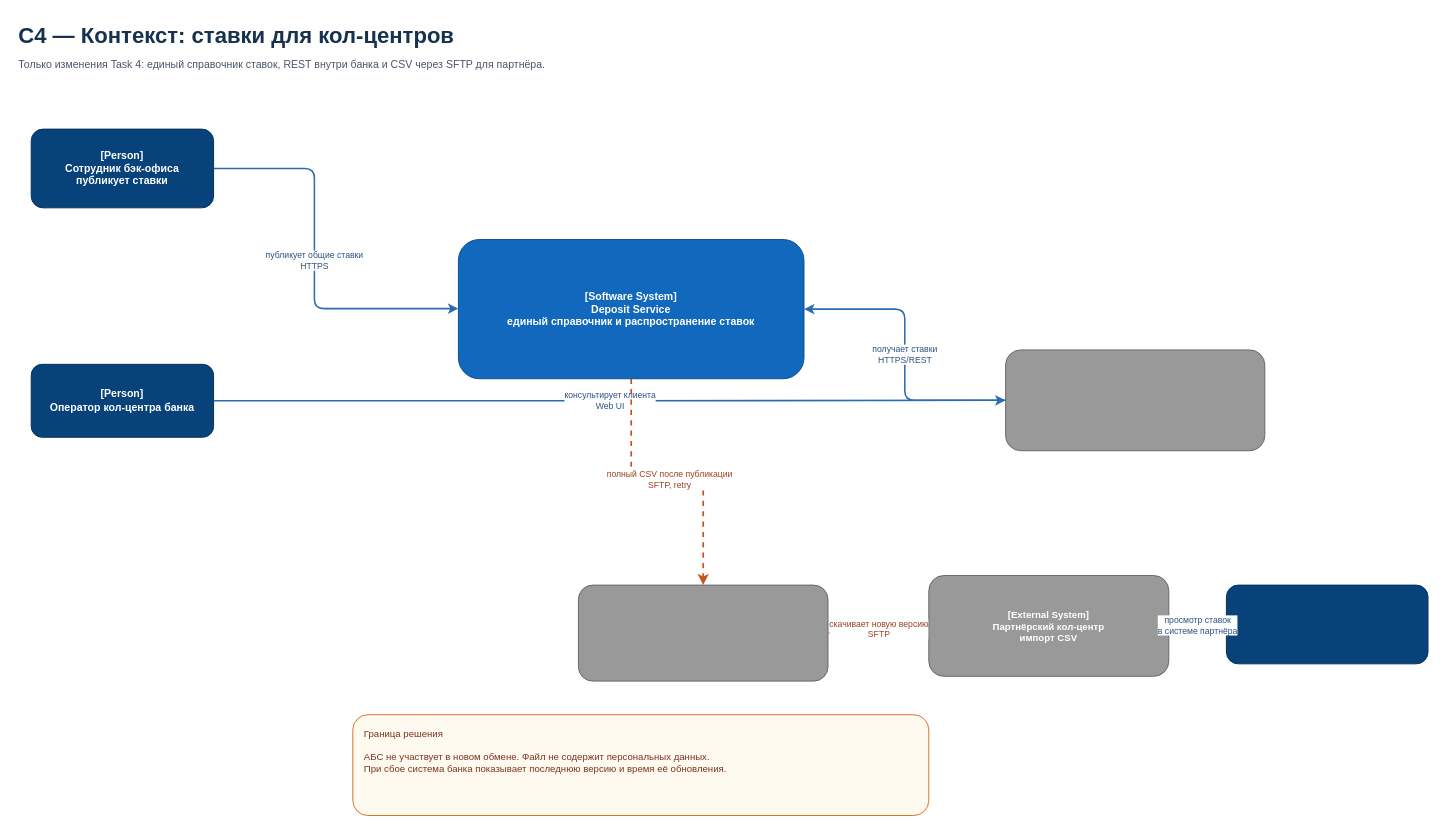
Image size: 1445x832. Some labels were removed from this diagram. The centre of each missing label's shape, as x and y in pixels:
"[Person] Оператор партнёрского кол-центра" belongs at [1326,624].
"[Software System] SFTP-сервер банка защищённый файловый обмен" belongs at [702,632].
"[Software System] Система кол-центра банка экран и кэш ставок" belongs at [1135,400].
